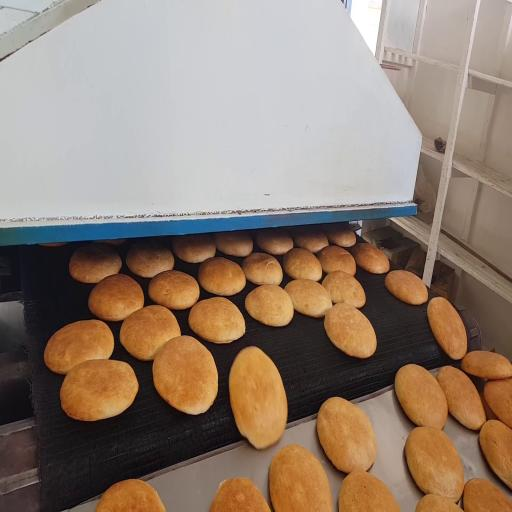bread: (229, 347, 287, 448), (153, 336, 218, 414), (60, 360, 138, 420), (317, 397, 376, 473), (405, 427, 464, 502), (270, 445, 332, 511), (44, 320, 114, 374), (395, 364, 447, 429), (120, 305, 180, 360), (436, 366, 486, 430), (324, 303, 376, 358), (89, 275, 144, 321), (189, 298, 245, 343), (339, 470, 399, 511), (428, 297, 467, 359), (479, 420, 511, 488), (95, 480, 165, 511), (69, 244, 121, 283), (149, 270, 199, 310), (210, 478, 270, 511), (245, 285, 293, 326), (198, 257, 245, 295), (285, 279, 332, 317), (126, 243, 174, 277), (322, 271, 365, 308), (463, 479, 511, 511), (385, 270, 428, 304), (461, 351, 511, 379), (484, 378, 511, 428), (283, 248, 322, 281), (172, 234, 216, 263), (242, 253, 282, 284), (352, 243, 389, 274), (318, 246, 355, 275), (214, 231, 253, 257), (256, 229, 293, 255), (292, 229, 328, 254), (416, 494, 461, 511), (323, 224, 356, 247), (479, 390, 497, 420), (96, 239, 126, 245), (39, 242, 67, 247)
